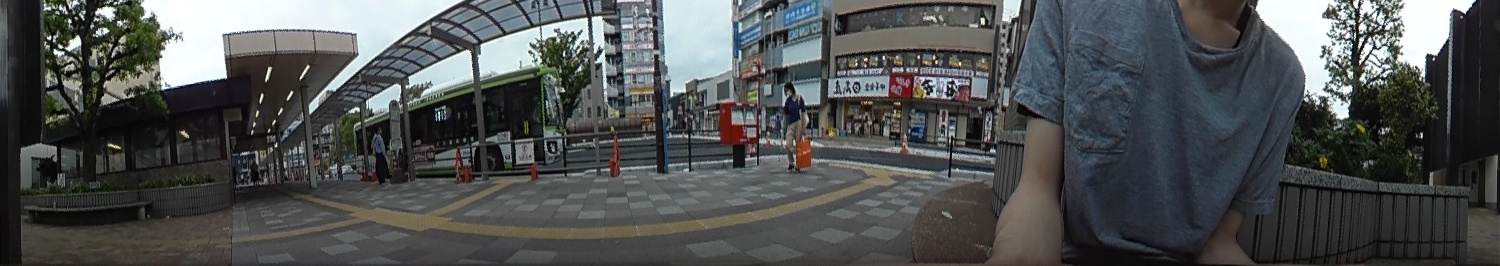difficult_person: (248, 157, 259, 185)
person: (779, 81, 812, 173), (371, 126, 389, 185)
